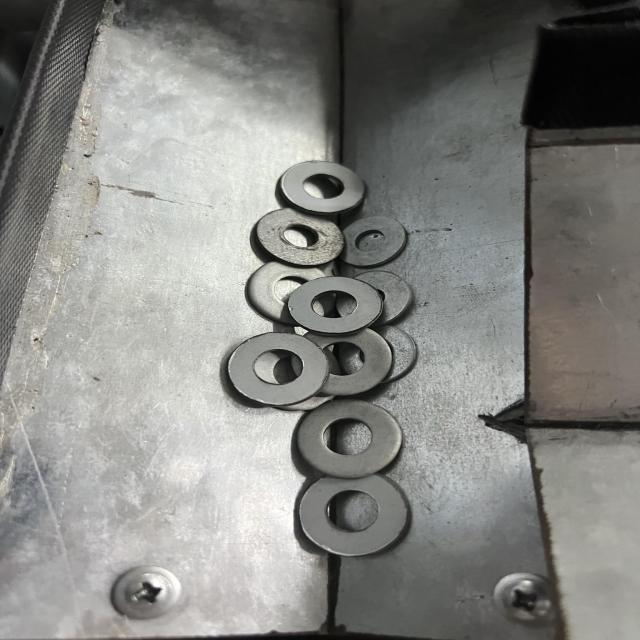washer: (294, 402, 410, 479), (224, 331, 328, 405), (285, 275, 386, 335), (277, 158, 369, 212)
